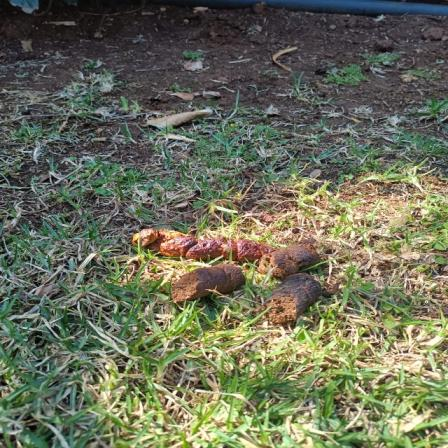dog-poop: (135, 221, 328, 329)
